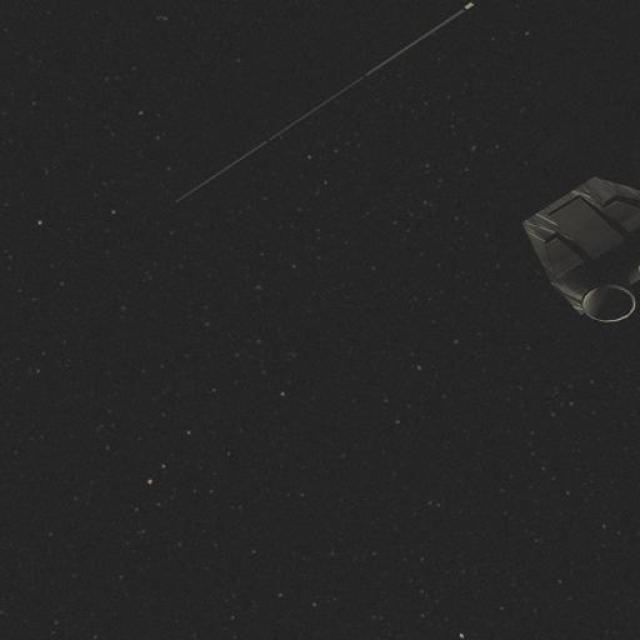xmm_newton: (398, 77, 640, 371)
